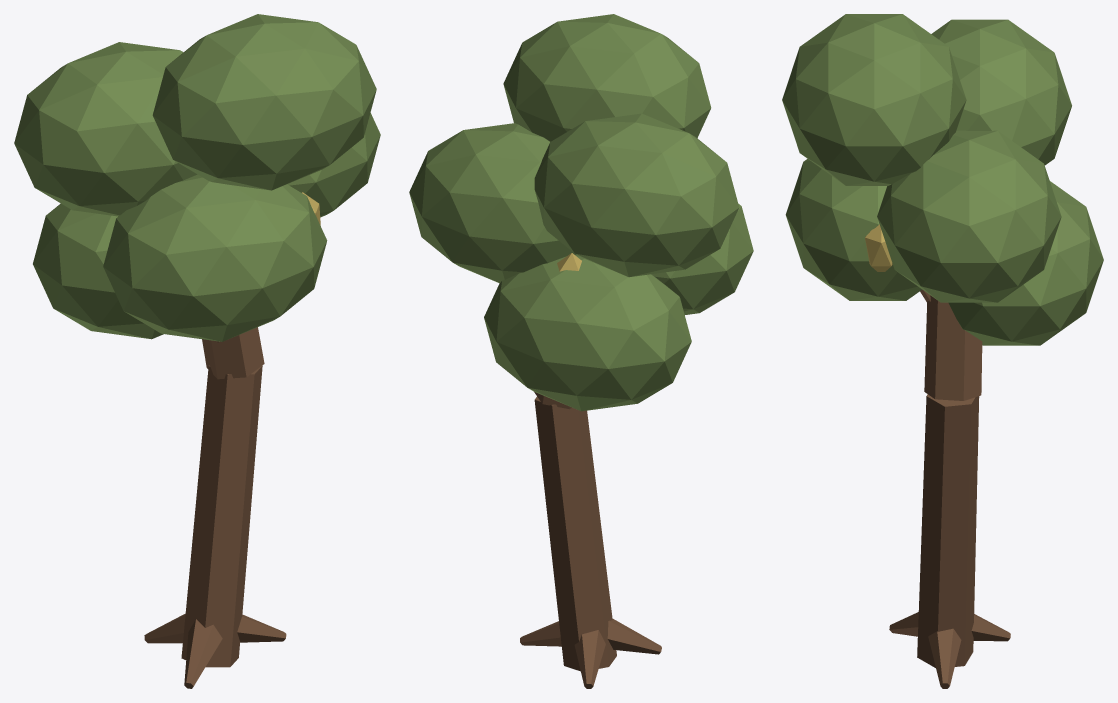
File: map-boundaries-v5__farm_06.glb
3 views of the same model, side by side, from view 1: azimuth 30°, elevation 25°; view 2: azimuth 150°, elevation 25°; view 3: azimuth 270°, elevation 25° (orthographic). The views are drawn at different scales.
Parts seen in each view (by area): view 1: farm_06; view 2: farm_06; view 3: farm_06.
Part boxes in pixels (x1,y1,x2,y2): farm_06: (14, 14, 380, 688); farm_06: (409, 14, 753, 688); farm_06: (782, 14, 1103, 688).
Bounding box in the file's own units: 1.94 × 3.69 × 1.67.
